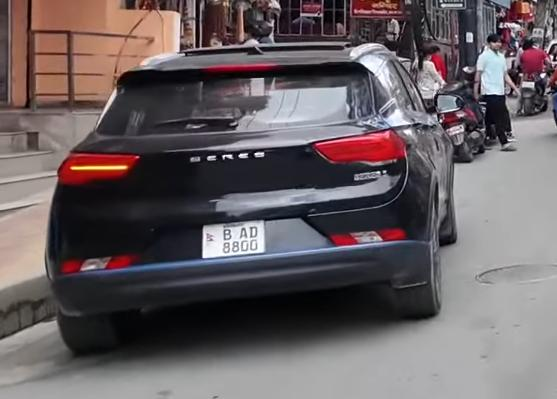car: (39, 37, 474, 356)
scooter: (434, 77, 491, 164)
